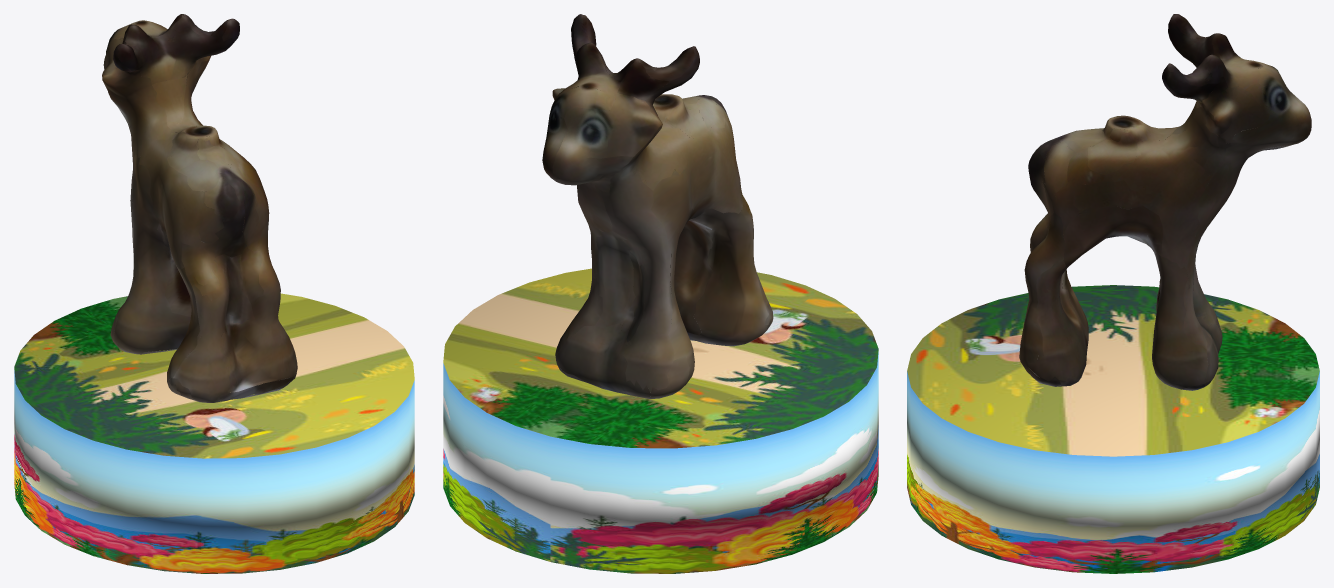
Rendered from asset.glb.
The picture shows the model from 3 angles, left to right: view 1: azimuth 30°, elevation 25°; view 2: azimuth 150°, elevation 25°; view 3: azimuth 270°, elevation 25°; orthographic projection. The views are drawn at different scales.
Visible parts, largest first — view 1: Cylinder, Mesh_0.001; view 2: Cylinder, Mesh_0.001; view 3: Cylinder, Mesh_0.001.
Part boxes in pixels (x1,y1,x2,y2): Cylinder: (14,293,414,573); Mesh_0.001: (102,14,297,402); Cylinder: (443,268,878,573); Mesh_0.001: (542,14,773,398); Cylinder: (907,285,1319,573); Mesh_0.001: (1019,14,1311,390).
Size of the model in its own units: 0.4333 by 0.525 by 0.4403.
Materials: 2 (2 with a texture image).
